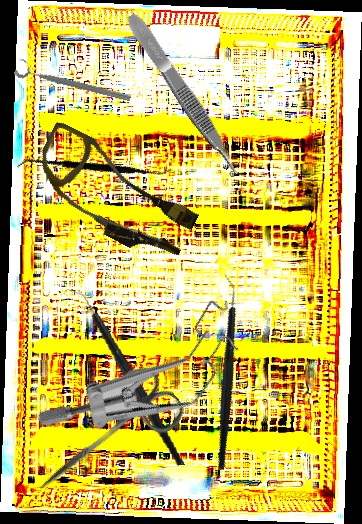Cannula: (20, 120, 209, 269)
Chopper: (150, 272, 298, 471), (66, 274, 185, 480)
Fixation Ring: (13, 56, 134, 106)
Iris Scissors: (18, 358, 191, 518)
Spatula Surgical: (15, 101, 174, 236)
Speculum: (34, 250, 260, 493)
Tissue Forceps: (123, 9, 244, 181)
